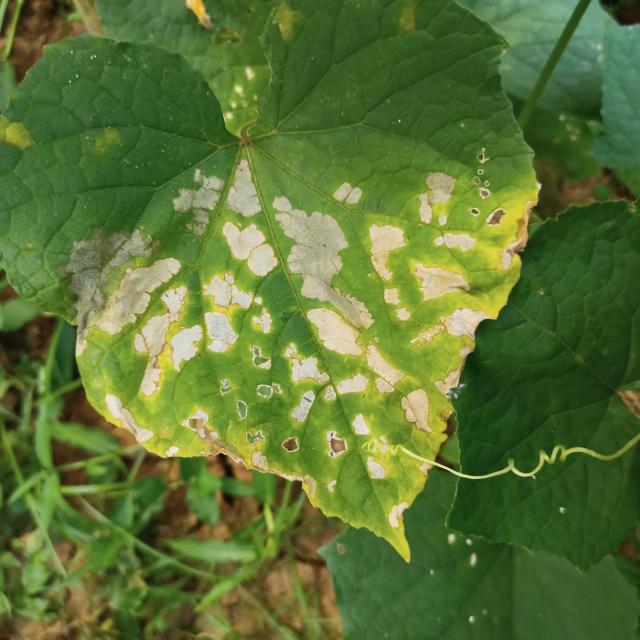disease_cucumber: (68, 158, 530, 526), (0, 110, 42, 158)
